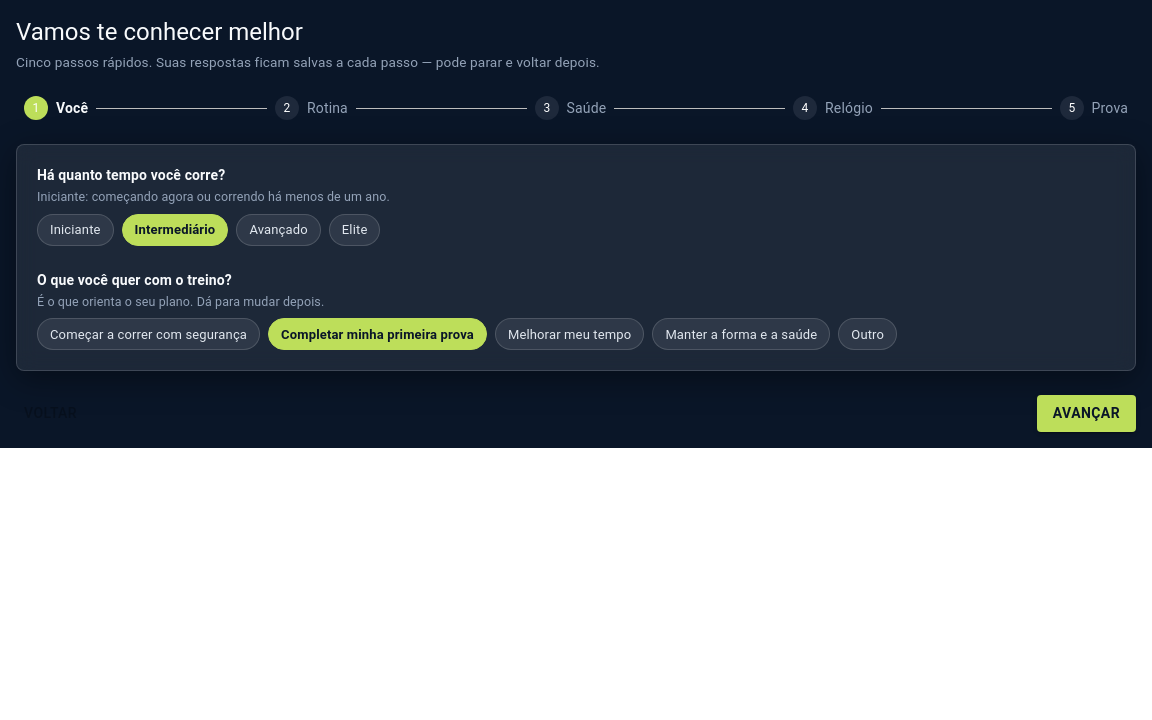
Scenario: AthleteOnboardingPage › a etapa de saúde, sem nada respondido, oferece "Pular"
The image size is (1152, 720).
Click the button "Avançar": (1086, 414) [1037,395,1136,432]
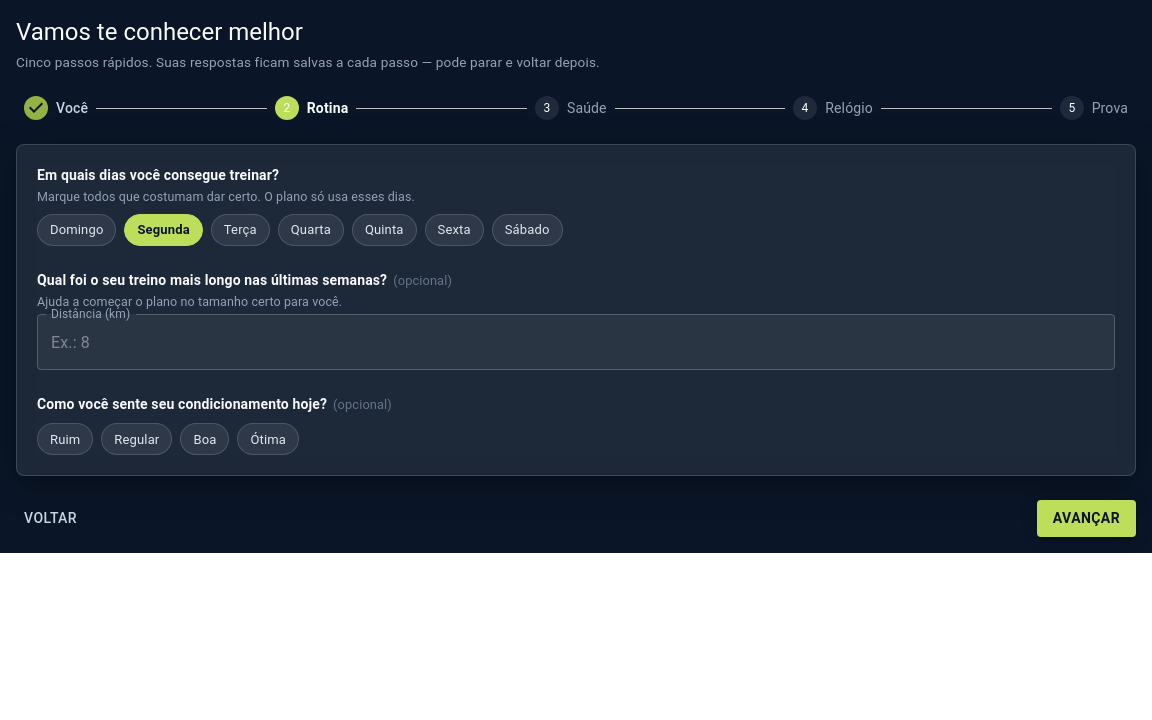
Click the button "Avançar": (1086, 519) [1037,500,1136,537]
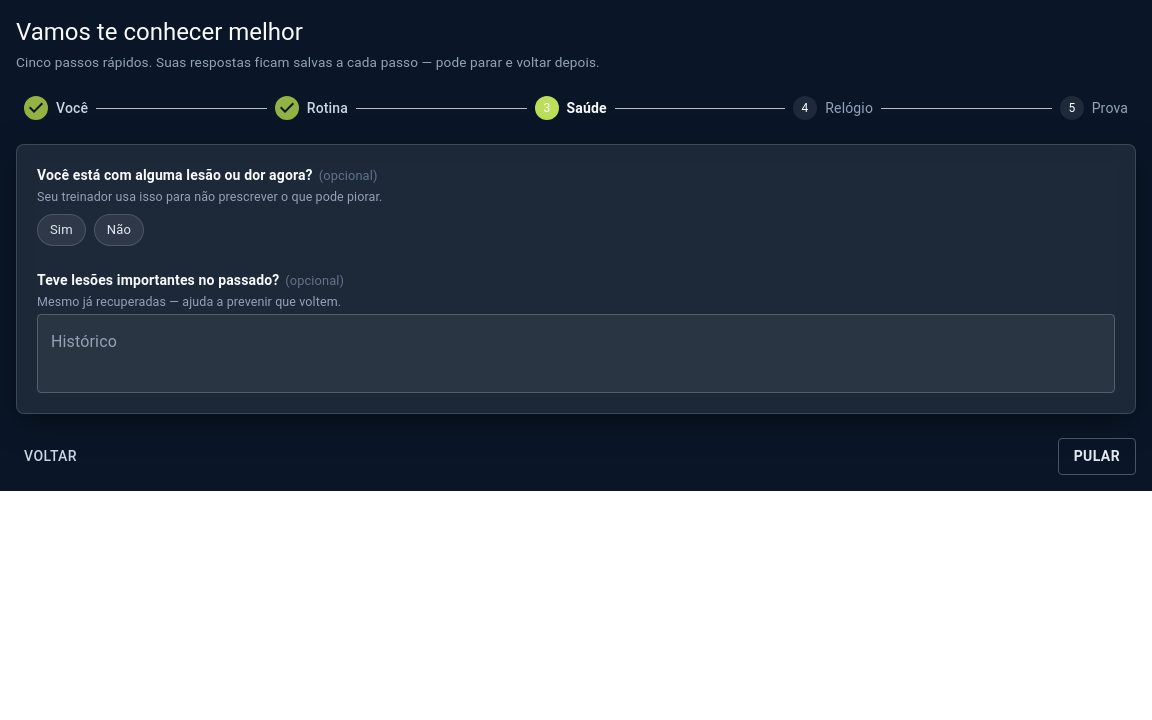
Expected: the button "Pular" is enabled, [1058,438,1136,475]
Now the text "Você está com alguma lesão ou dor agora?(opcional)" is shown, box [37,167,378,183]
